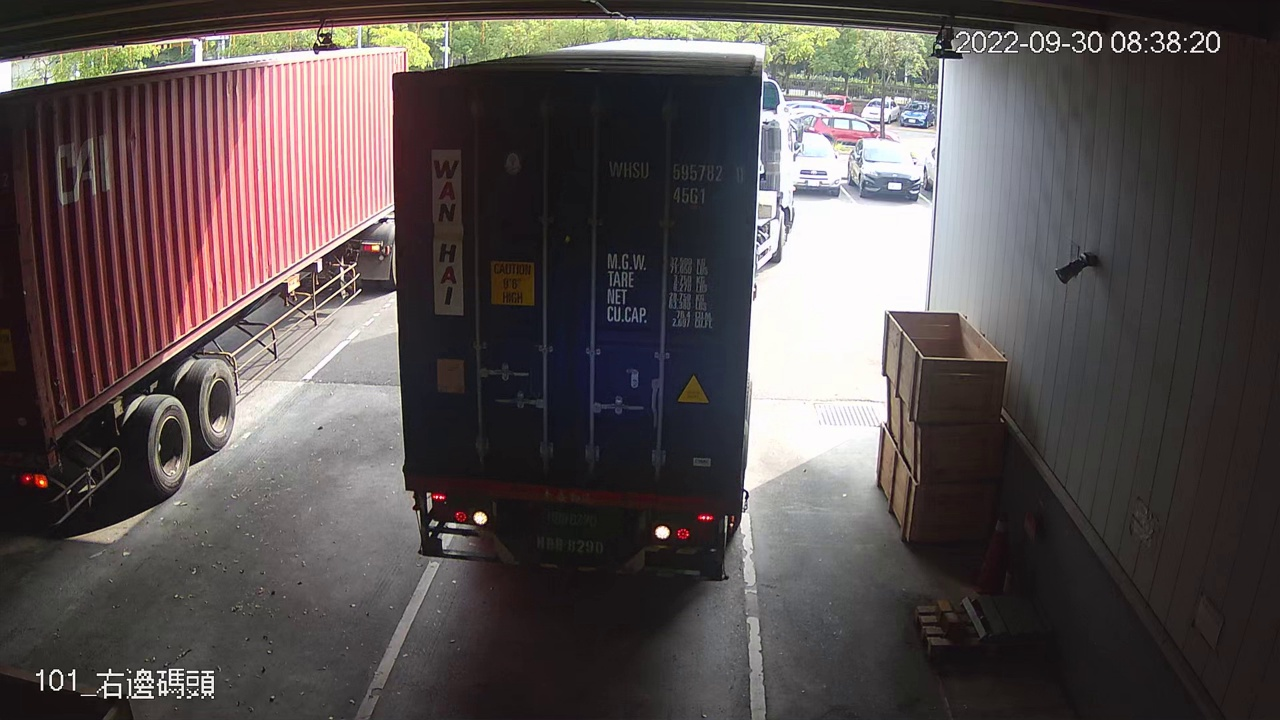container: (603, 152, 748, 210)
